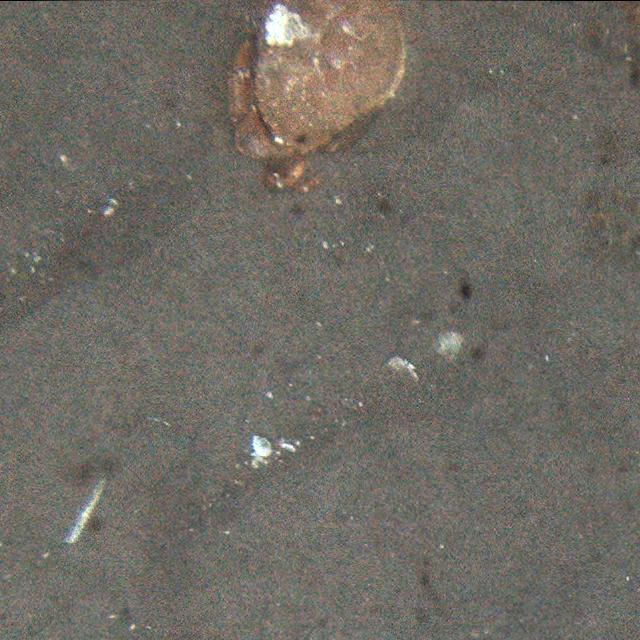crab: (224, 0, 415, 194)
